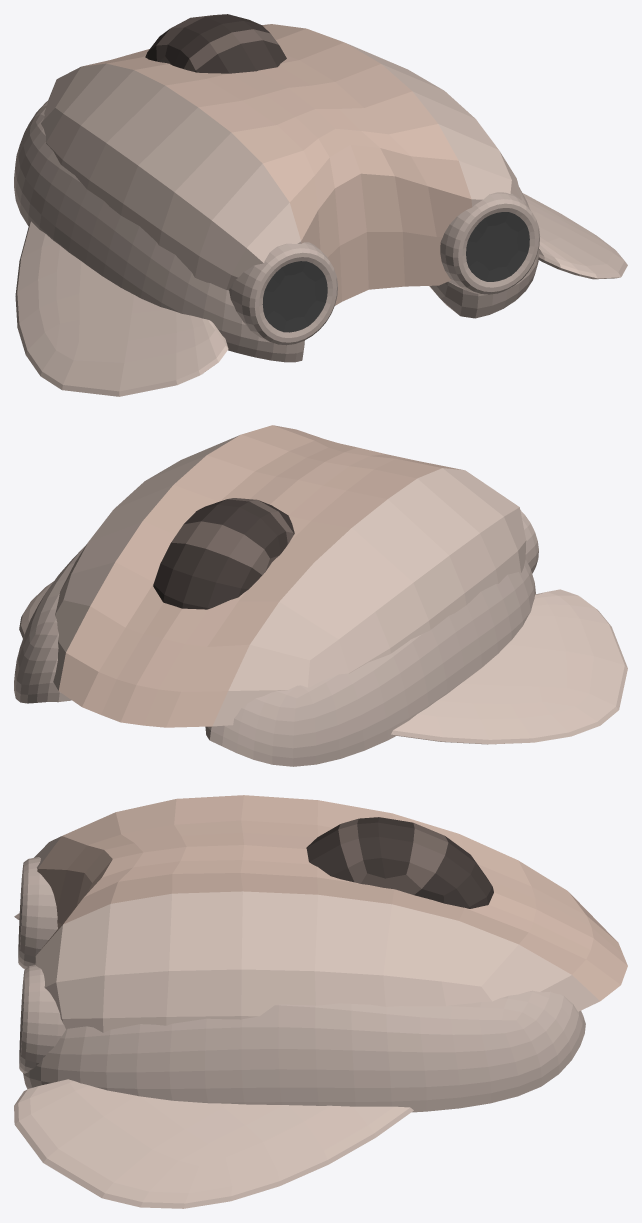
File: ship2.fbx
3 renders of one model, top to bottom at view 1: azimuth 30°, elevation 25°; view 2: azimuth 150°, elevation 25°; view 3: azimuth 270°, elevation 25°, orthographic. The views are drawn at different scales.
Parts seen in each view (by area): view 1: polySurface5; view 2: polySurface5; view 3: polySurface5.
Boxes of the visible parts, left/top/right/bottom form: polySurface5: left=14, top=14, right=627, bottom=396; polySurface5: left=14, top=425, right=627, bottom=766; polySurface5: left=14, top=795, right=627, bottom=1208.
Bounding box in the file's own units: 54.67 × 20.58 × 48.4.
